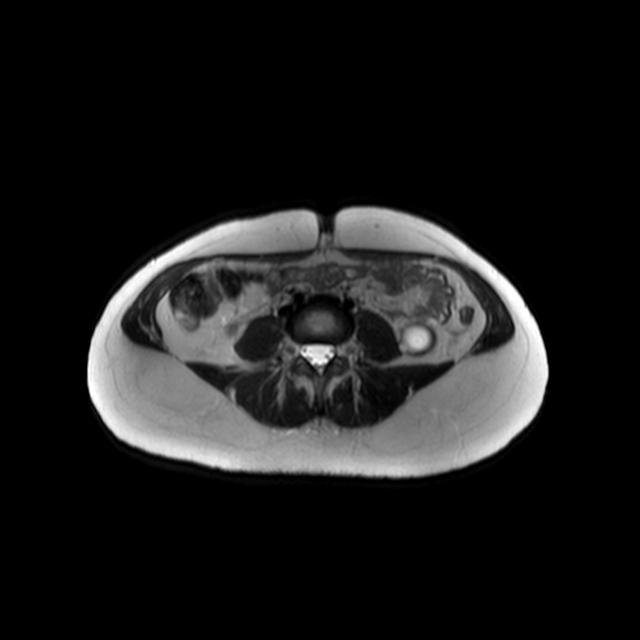sol: (398, 321, 435, 355)
